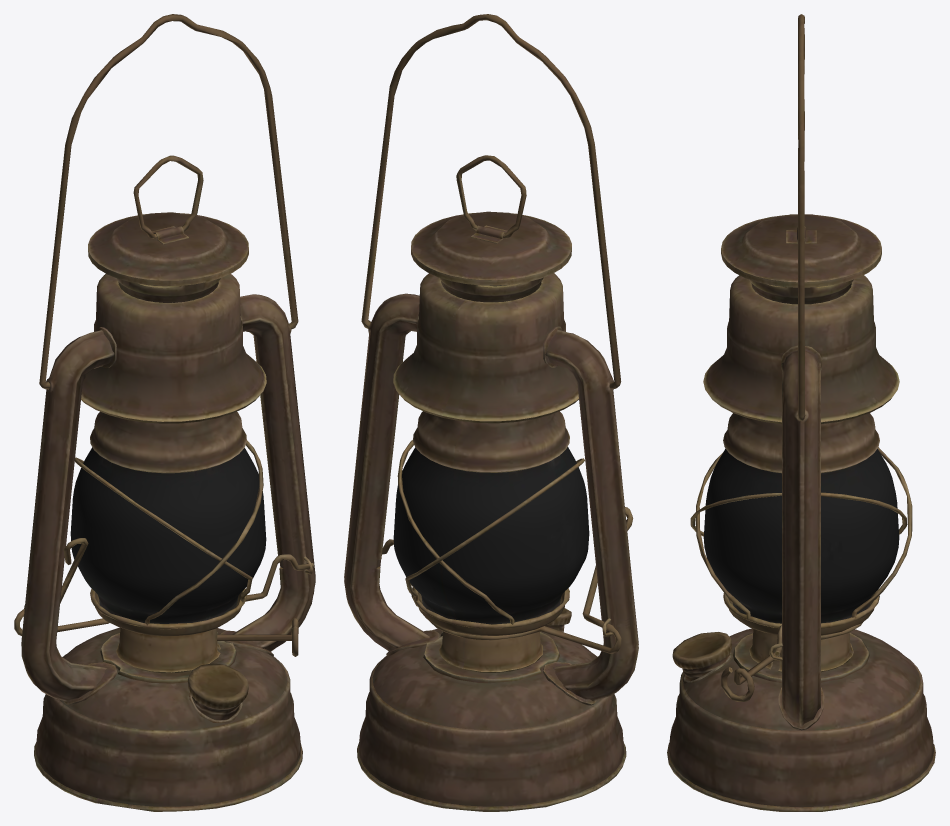
Rendered from Lantern_01.glb.
3 renders of one model, left to right at view 1: azimuth 30°, elevation 25°; view 2: azimuth 150°, elevation 25°; view 3: azimuth 270°, elevation 25°, orthographic.
Parts seen in each view (by area): view 1: Lantern_01, Lantern_01_glass; view 2: Lantern_01, Lantern_01_glass; view 3: Lantern_01, Lantern_01_glass.
Part boxes in pixels (<box>): Lantern_01: <box>14,14,315,811</box>; Lantern_01_glass: <box>70,447,266,623</box>; Lantern_01: <box>344,14,638,811</box>; Lantern_01_glass: <box>393,447,589,624</box>; Lantern_01: <box>667,14,935,811</box>; Lantern_01_glass: <box>703,448,899,623</box>.
Bounding box in the file's own units: 0.1221 × 0.294 × 0.097.
Materials: 2 (2 with a texture image).
